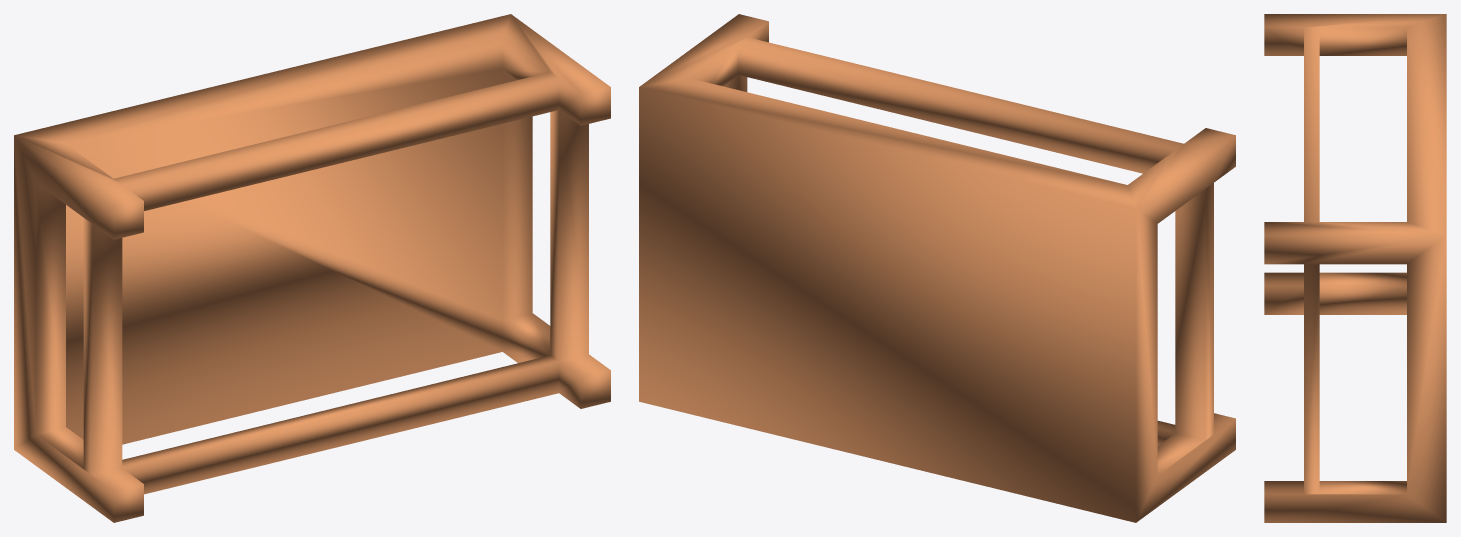
File: tableCoffee.obj
The picture shows the model from 3 angles, left to right: view 1: azimuth 30°, elevation 25°; view 2: azimuth 150°, elevation 25°; view 3: azimuth 270°, elevation 25°; orthographic projection. The views are drawn at different scales.
Visible parts, largest first — view 1: tableCoffee; view 2: tableCoffee; view 3: tableCoffee.
Boxes of the visible parts, bbox=[...] form: tableCoffee: bbox=[14, 14, 610, 522]; tableCoffee: bbox=[639, 14, 1235, 522]; tableCoffee: bbox=[1264, 14, 1446, 522].
Size of the model in its own units: 0.661 by 0.4 by 0.23.
